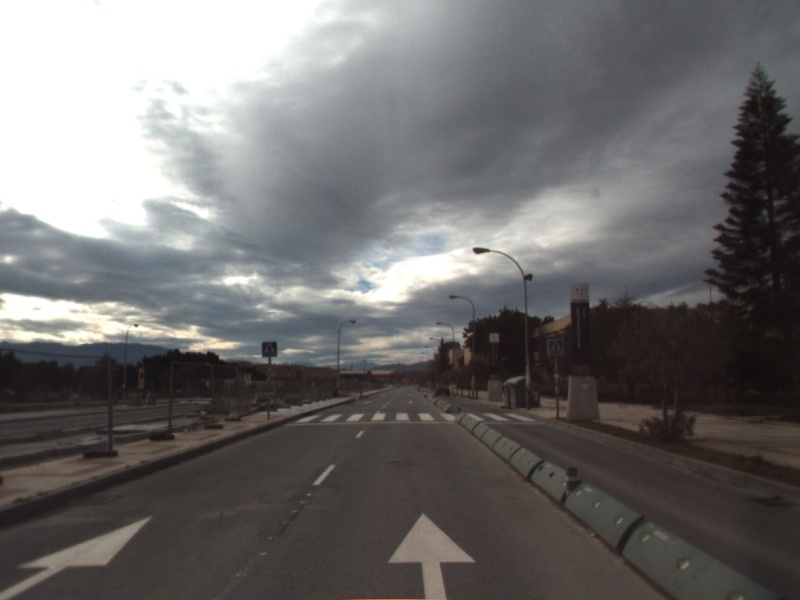STRAIGHT: (1, 512, 155, 600), (385, 509, 479, 600)
